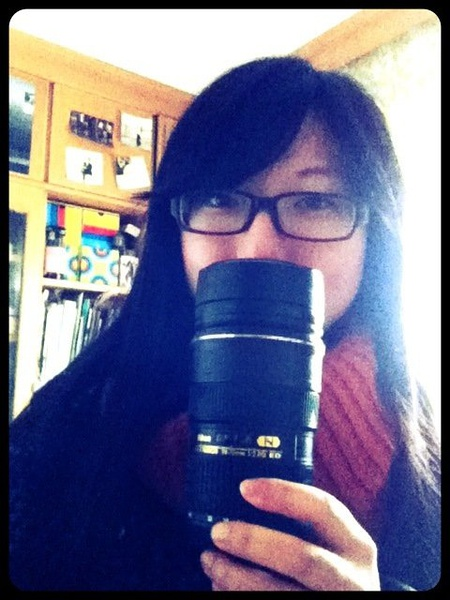face: (185, 95, 364, 386)
